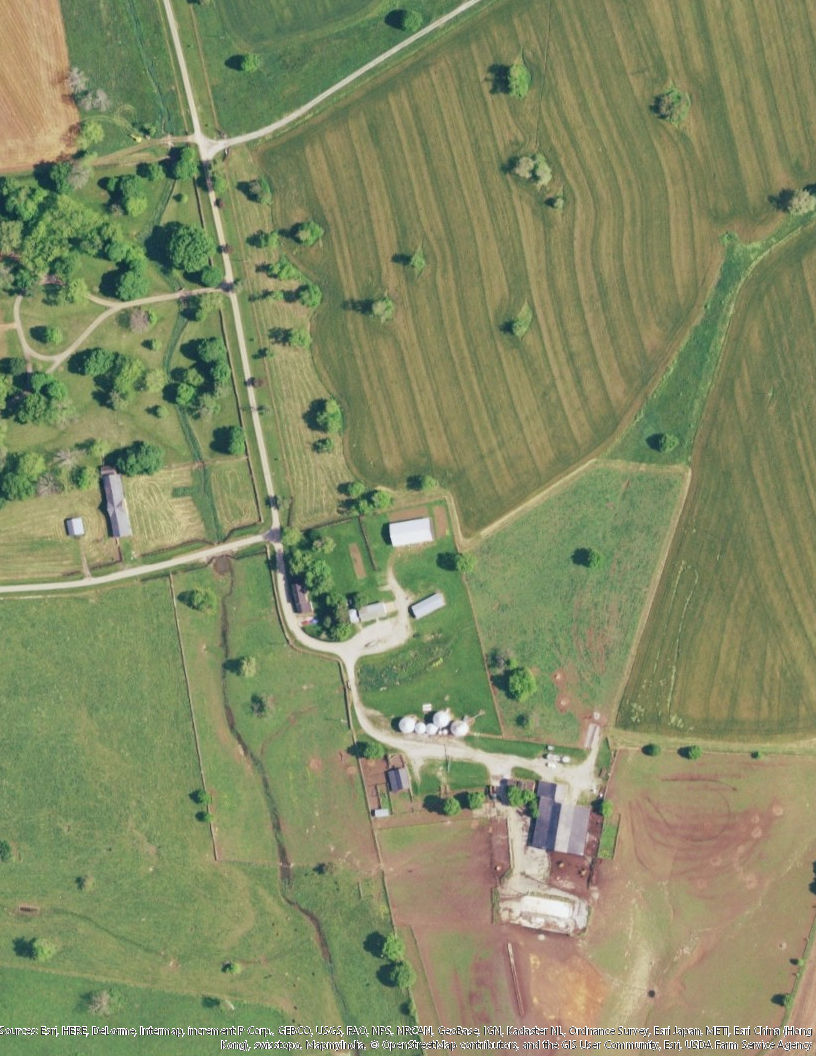cafo: (524, 774, 599, 861), (383, 515, 439, 549), (407, 590, 448, 621)
